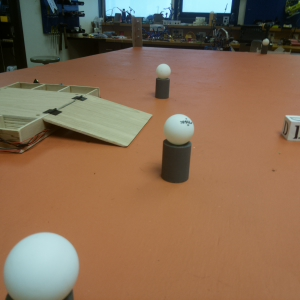obstacle: (161, 114, 192, 184), (155, 64, 170, 98), (260, 38, 269, 57)
side: (1, 115, 46, 157)
slope: (43, 96, 150, 149)
